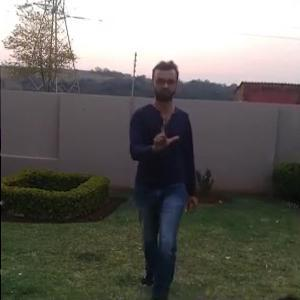land_hand: (149, 113, 183, 154)
